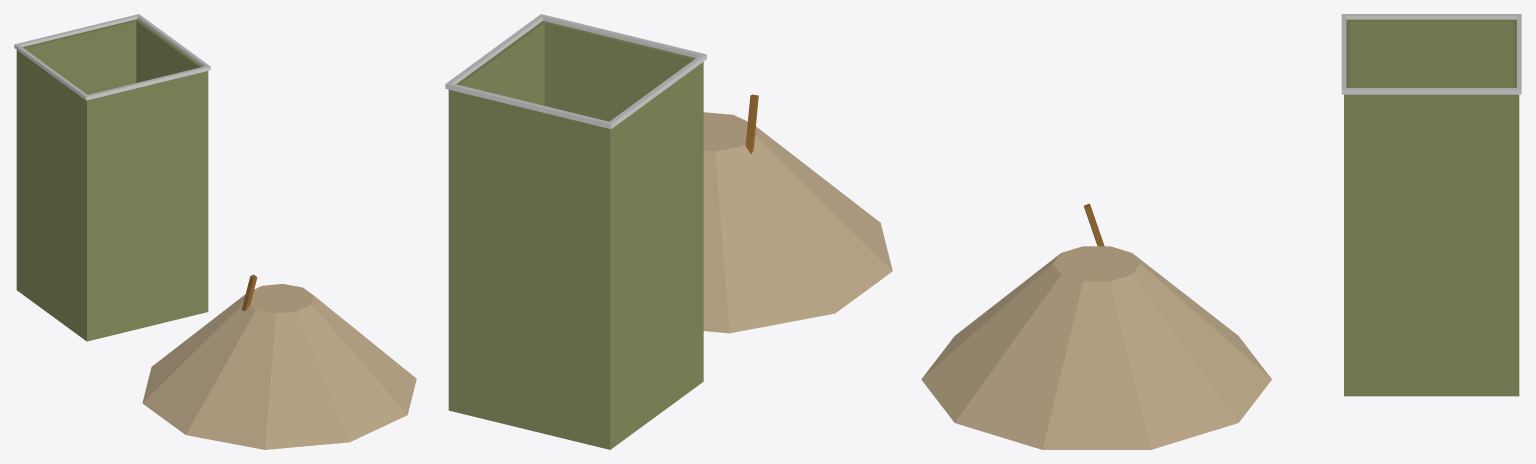
File: SM_ObraHescoAbierto_v0_10m_LOD0.fbx
3 renders of one model, left to right at view 1: azimuth 30°, elevation 25°; view 2: azimuth 150°, elevation 25°; view 3: azimuth 270°, elevation 25°, orthographic. The views are drawn at different scales.
Parts seen in each view (by area): view 1: SM_obra_curso_v21_LOD0; view 2: SM_obra_curso_v21_LOD0; view 3: SM_obra_curso_v21_LOD0.
Part boxes in pixels (bbox=[...]): SM_obra_curso_v21_LOD0: bbox=[14, 14, 416, 449]; SM_obra_curso_v21_LOD0: bbox=[445, 14, 892, 449]; SM_obra_curso_v21_LOD0: bbox=[921, 14, 1521, 449].
Size of the model in its own units: 2.09 by 2.14 by 3.76.
